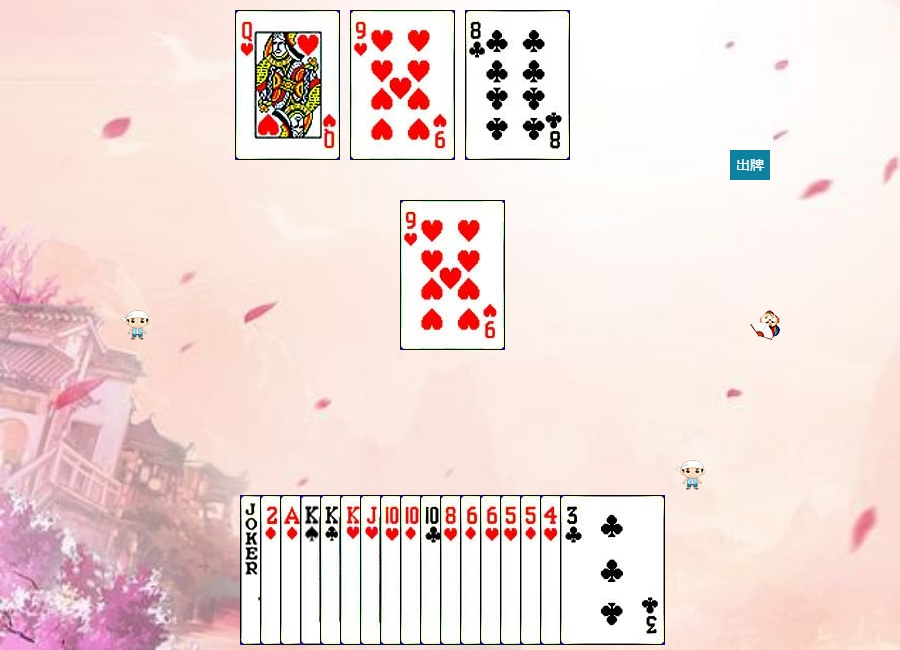10~1: (400, 495, 505, 645)
10~2: (420, 495, 525, 645)
10~3: (380, 495, 485, 645)
11~3: (360, 495, 465, 645)
12~3: (235, 10, 340, 160)
13~2: (320, 495, 425, 645)
13~3: (340, 495, 445, 645)
13~4: (300, 495, 405, 645)
14~1: (280, 495, 385, 645)
15~1: (260, 495, 365, 645)
17~3: (240, 495, 345, 645)
3~2: (560, 495, 665, 645)
4~3: (540, 495, 645, 645)
5~1: (520, 495, 625, 645)
5~3: (500, 495, 605, 645)
6~1: (460, 495, 565, 645)
6~3: (480, 495, 585, 645)
8~2: (465, 10, 570, 160)
8~3: (440, 495, 545, 645)
9~3: (350, 10, 455, 160), (400, 200, 505, 350)
